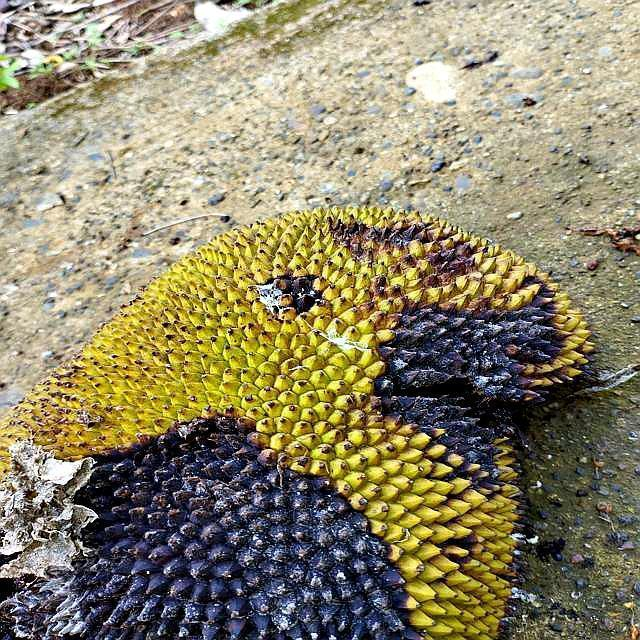Biodegradable: (17, 203, 579, 637)
